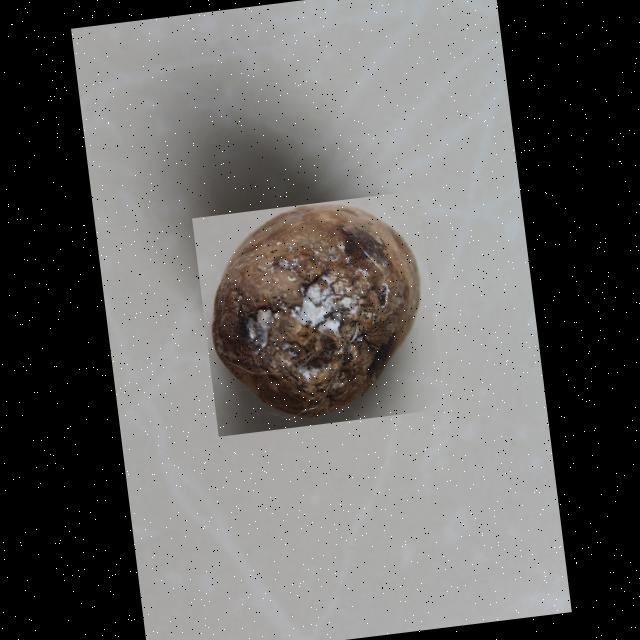Diseased-fungal potato: (190, 190, 444, 437)
